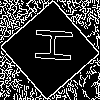H: (25, 25, 73, 65)
